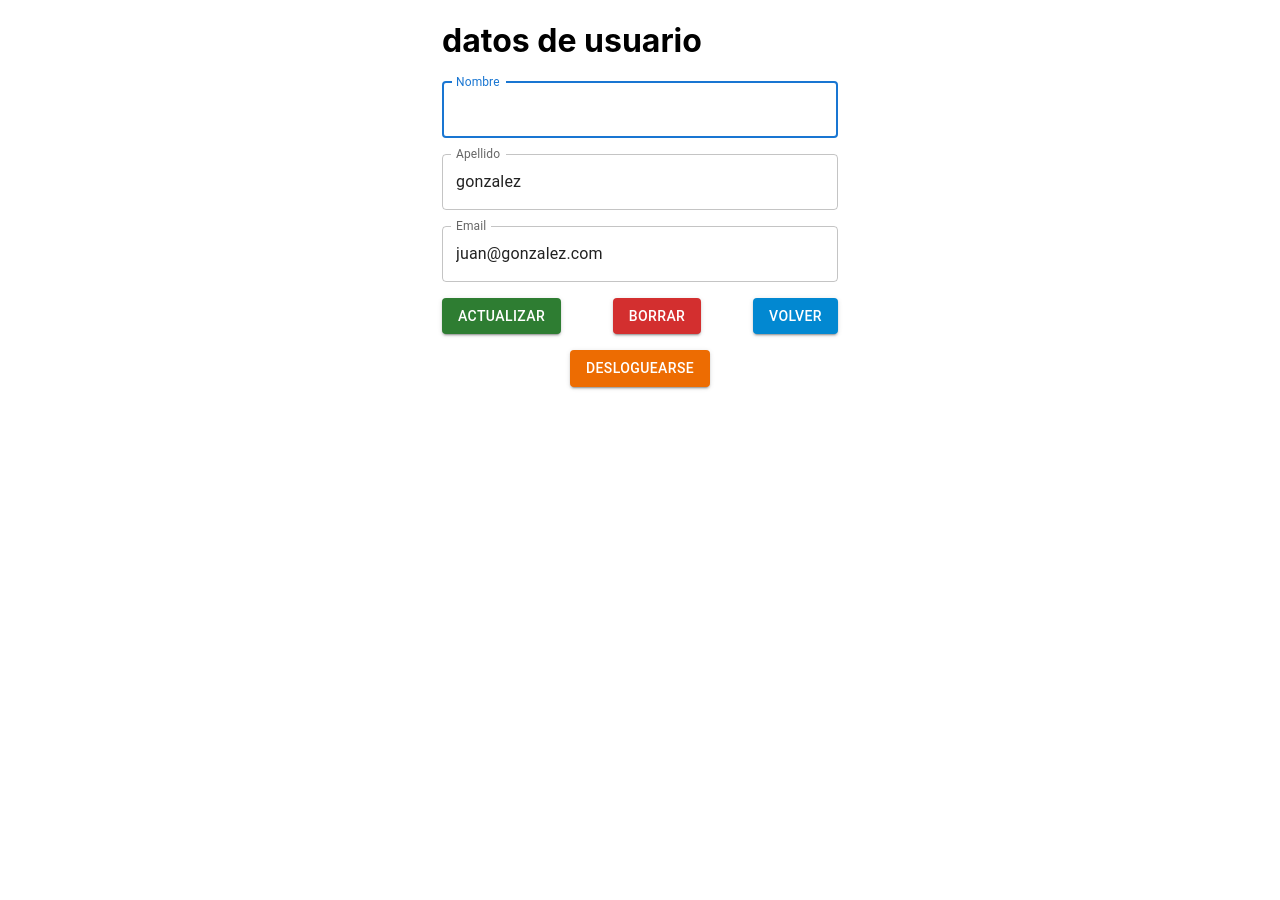
Test case: UserDetail page › should open delete succes modal when click on delete button
The width and height of the screenshot is (1280, 900).
What coordinates should you click on to do the following:
click the button "Borrar"
I would click on:
 (657, 316)
Its box is [613,298,701,334].
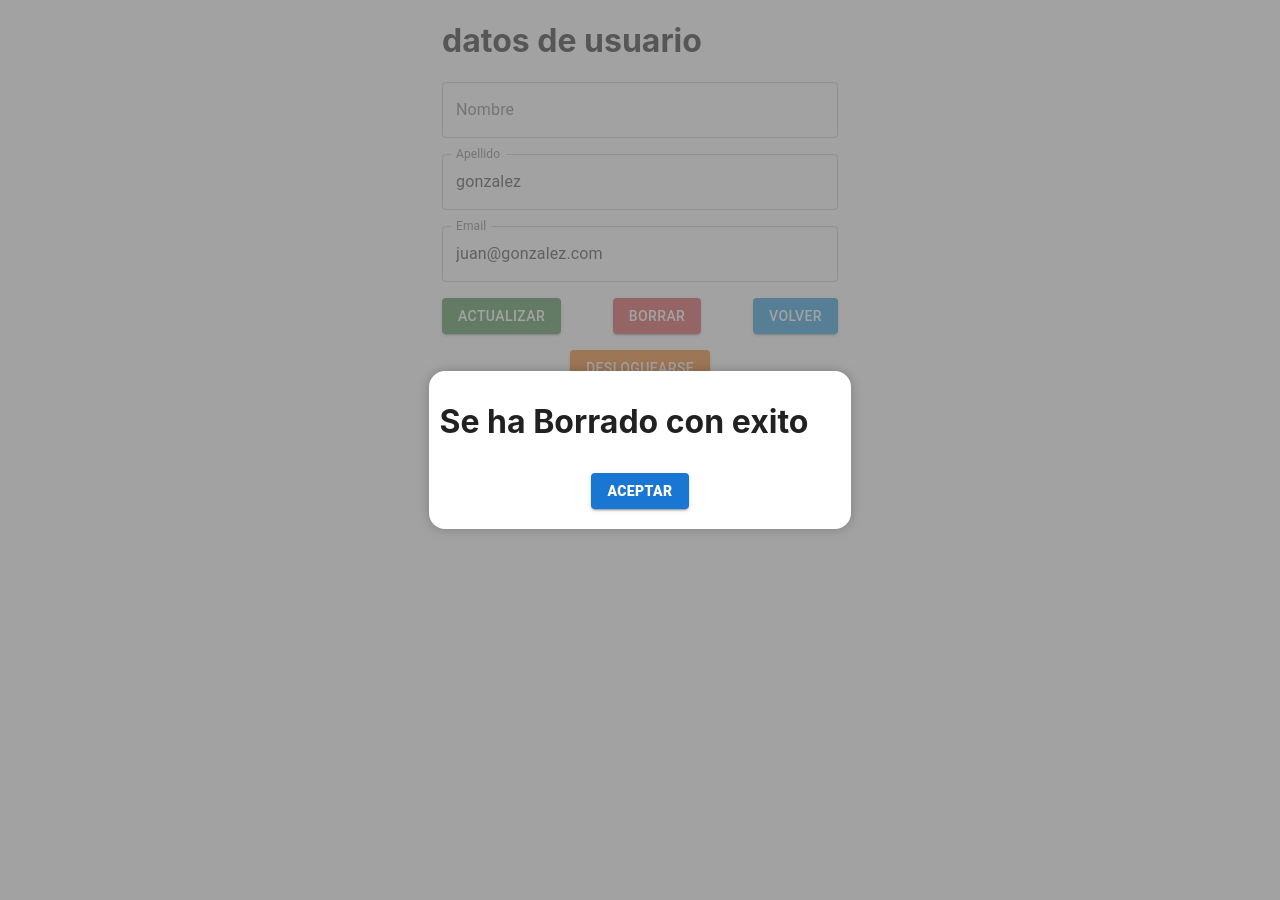
expect the heading "Se ha Borrado con exito" is shown: met, box [430,392,850,451]
